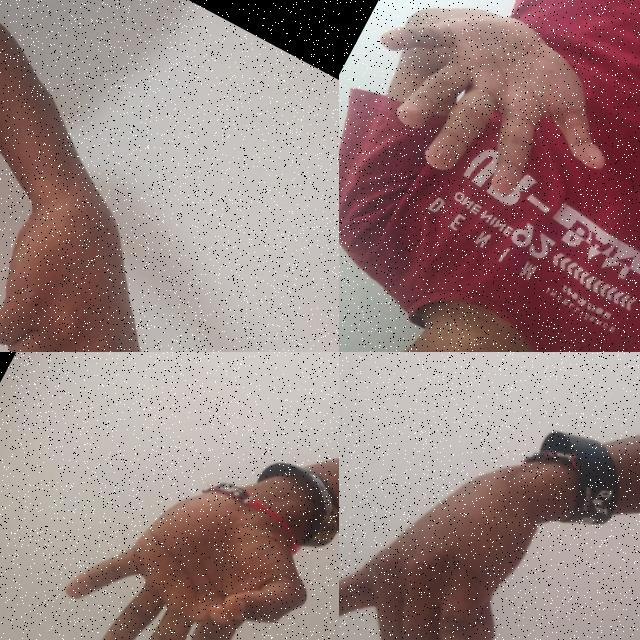Corna: (339, 364, 604, 640)
Middle Finger: (0, 147, 213, 352)
Moutza: (339, 0, 640, 245)
Okay: (25, 397, 339, 640)
